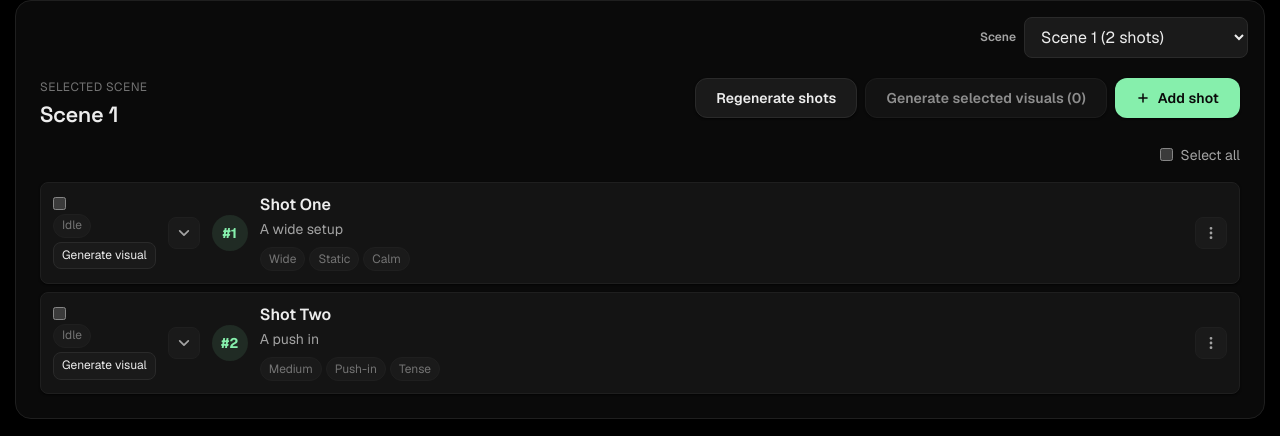
Test: ShotsWorkspace › shows scene shot counts and toggles visible scene shots
Expected: the text "Shot One" is shown, [260, 194, 331, 215]
Expected: the text "Shot Three" is not shown
Select "Scene 2 (1 shots)" in the dropdown named "Select scene" at (1136, 38), box [1024, 17, 1248, 58]
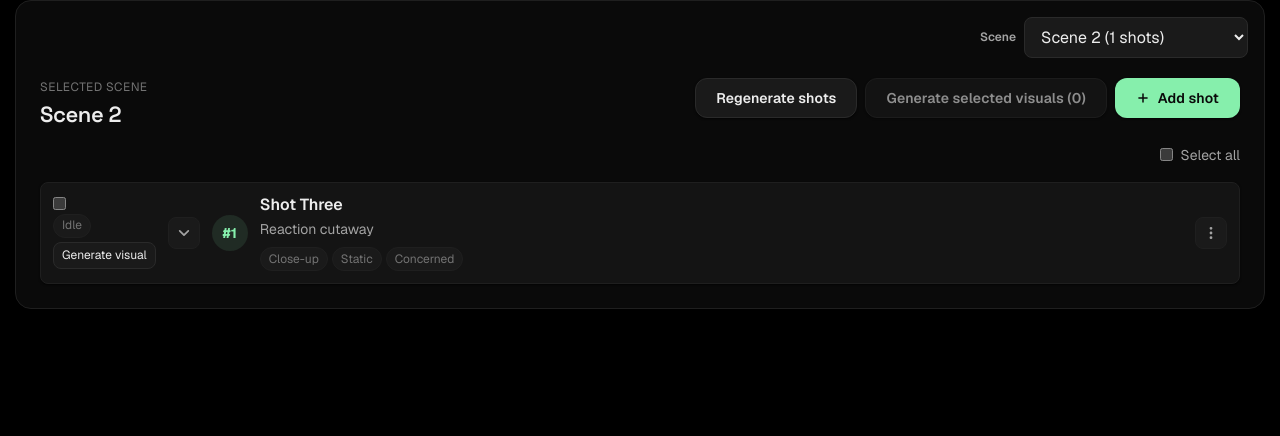
Expected: the text "Shot Three" is shown, [260, 194, 343, 215]
Expected: the button "Shot One" is gone
